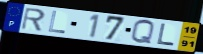1: (89, 14, 101, 40)
7: (105, 14, 127, 42)
L: (47, 10, 67, 35), (157, 22, 176, 47)
Q: (130, 19, 156, 46)
R: (20, 7, 47, 33)
